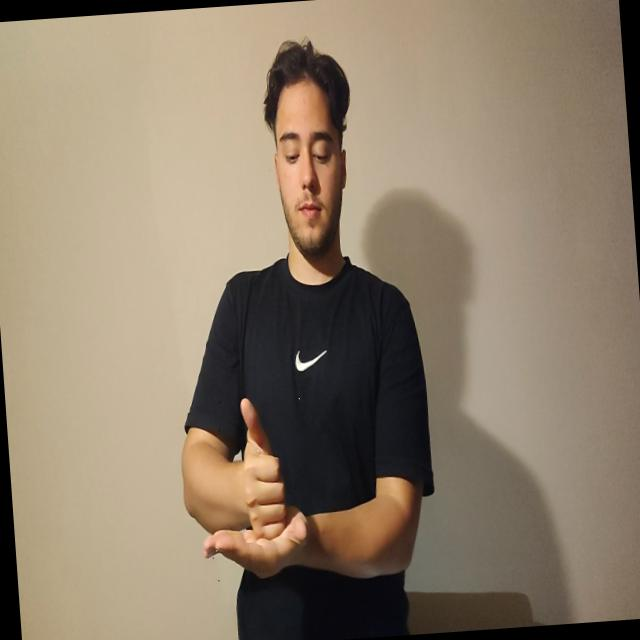help: (194, 394, 312, 584)
